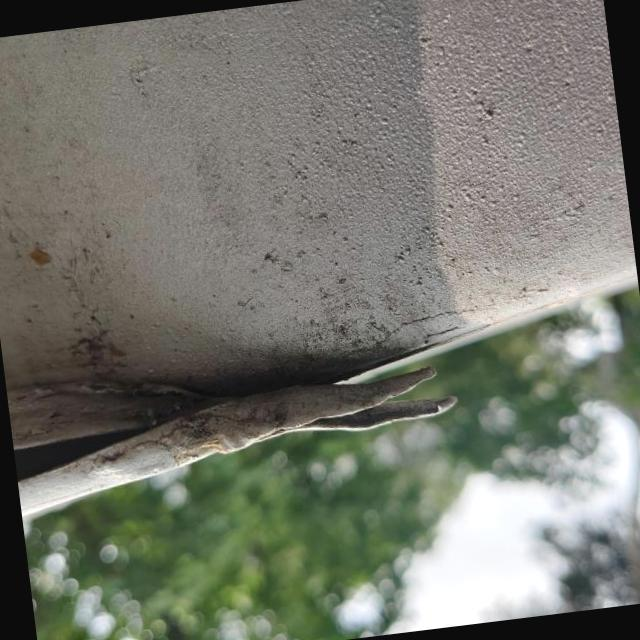crack: (244, 333, 474, 472)
